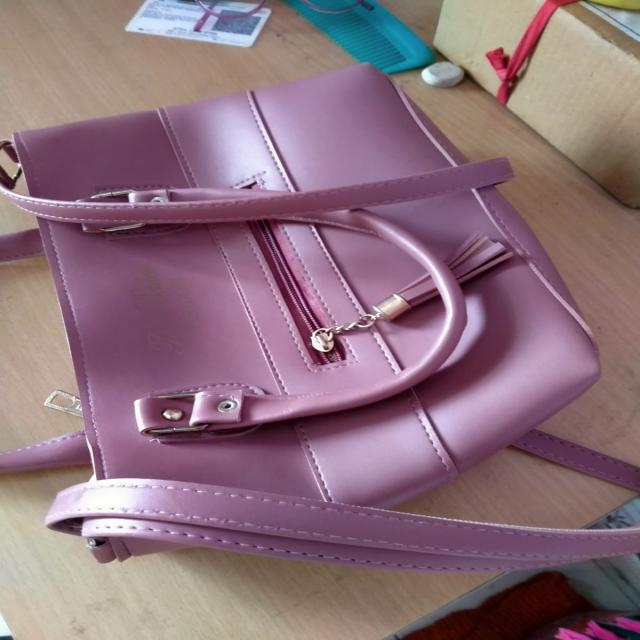Handbag: (9, 59, 628, 562)
